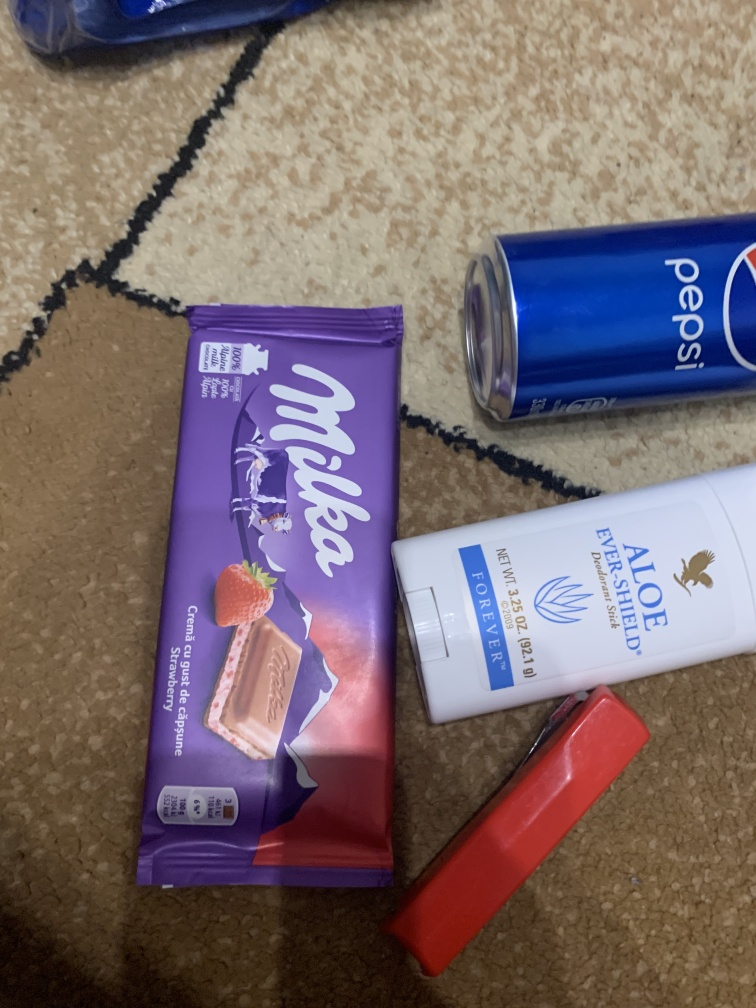milka: (133, 302, 408, 898)
pepsi: (454, 210, 756, 438)
